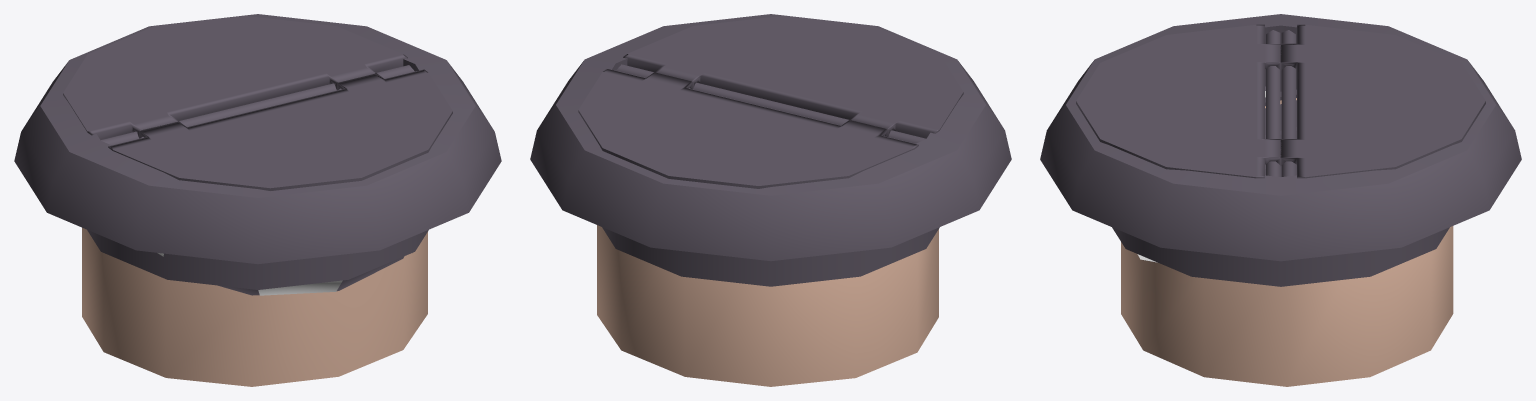
The model's file is Mesh_Hourglass_Hatch.fbx.
3 renders of one model, left to right at view 1: azimuth 30°, elevation 25°; view 2: azimuth 150°, elevation 25°; view 3: azimuth 270°, elevation 25°, orthographic.
Visible parts, largest first — view 1: Trappe_Support, Boitier, Couvercle_Gauche, Couvercle_Droit, Trappe_Droite_Couvercle_Support, Trappe_Gauche_Couvercle_Support, Trappe_Droite_Couvercle_Tube; view 2: Trappe_Support, Boitier, Couvercle_Droit, Couvercle_Gauche, Trappe_Gauche_Couvercle_Support, Trappe_Droite_Couvercle_Support, Trappe_Gauche_Couvercle_Tube.001; view 3: Trappe_Support, Boitier, Couvercle_Gauche, Couvercle_Droit, Trappe_Droite_Couvercle_Support, Trappe_Gauche_Couvercle_Support, Trappe_Gauche_Couvercle_Tube.001, Trappe_Droite_Couvercle_Tube.
Boxes of the visible parts, x1,y1,x2,y2 form: Trappe_Support: (14,14,501,289); Boitier: (82,227,427,386); Couvercle_Gauche: (112,72,452,190); Couvercle_Droit: (63,16,402,132); Trappe_Droite_Couvercle_Support: (87,54,407,140); Trappe_Gauche_Couvercle_Support: (108,69,427,150); Trappe_Droite_Couvercle_Tube: (101,65,414,145); Trappe_Support: (530,14,1011,286); Boitier: (597,225,938,386); Couvercle_Droit: (578,72,914,188); Couvercle_Gauche: (627,15,963,130); Trappe_Gauche_Couvercle_Support: (623,54,939,138); Trappe_Droite_Couvercle_Support: (603,69,918,148); Trappe_Gauche_Couvercle_Tube.001: (616,64,926,143); Trappe_Support: (1040,14,1521,286); Boitier: (1121,86,1453,386); Couvercle_Gauche: (1076,25,1256,178); Couvercle_Droit: (1305,24,1485,178); Trappe_Droite_Couvercle_Support: (1280,24,1305,178); Trappe_Gauche_Couvercle_Support: (1256,24,1281,178); Trappe_Gauche_Couvercle_Tube.001: (1266,30,1280,176); Trappe_Droite_Couvercle_Tube: (1281,30,1295,176).
Size of the model in its own units: 100 by 48.78 by 100.
